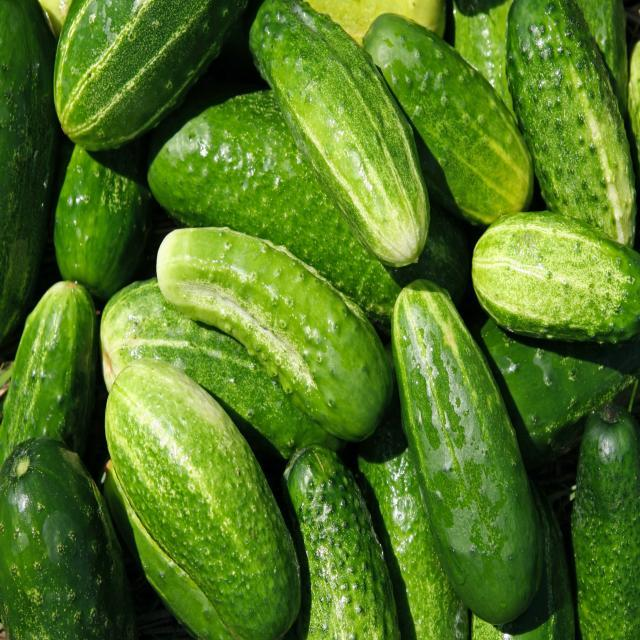cucumber: (93, 354, 305, 640), (385, 272, 549, 626), (246, 1, 438, 271), (154, 227, 396, 439), (361, 11, 532, 235), (47, 1, 263, 157), (506, 1, 640, 247), (1, 435, 143, 640), (467, 197, 640, 349), (284, 433, 400, 640), (1, 274, 93, 464), (569, 394, 638, 640)
